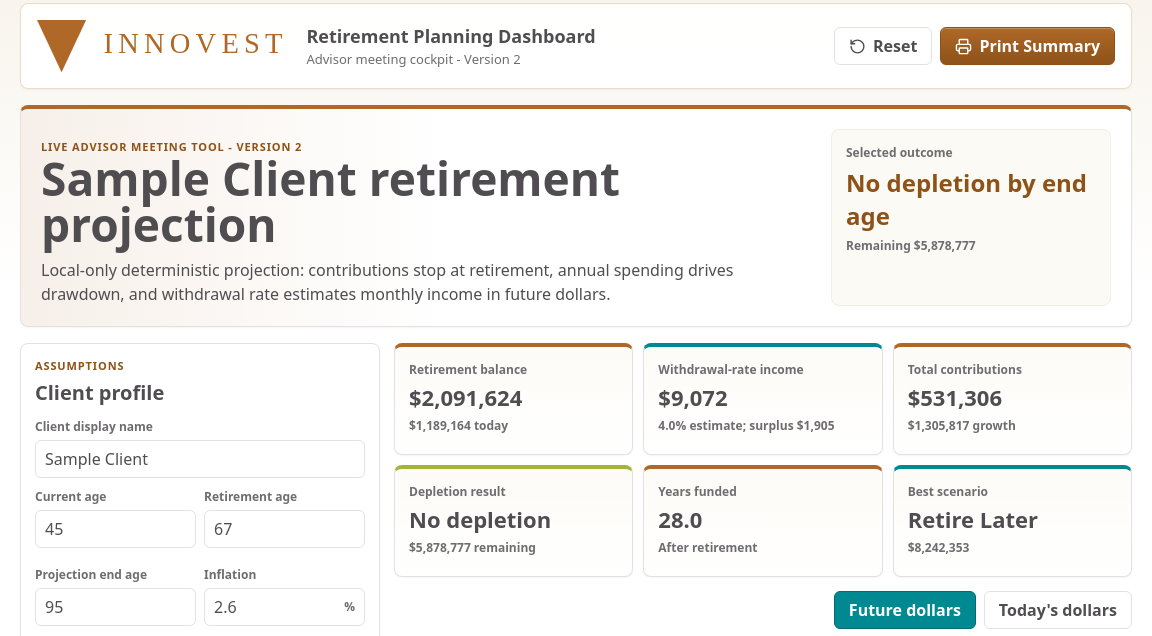
Scenario: Retirement dashboard app › shows validation feedback for invalid ages
This screenshot has width=1152, height=636.
Replace the text in the number field labelled "Current age" with "70". click: (116, 529)
box: [36, 511, 195, 547]
(page scrolled)
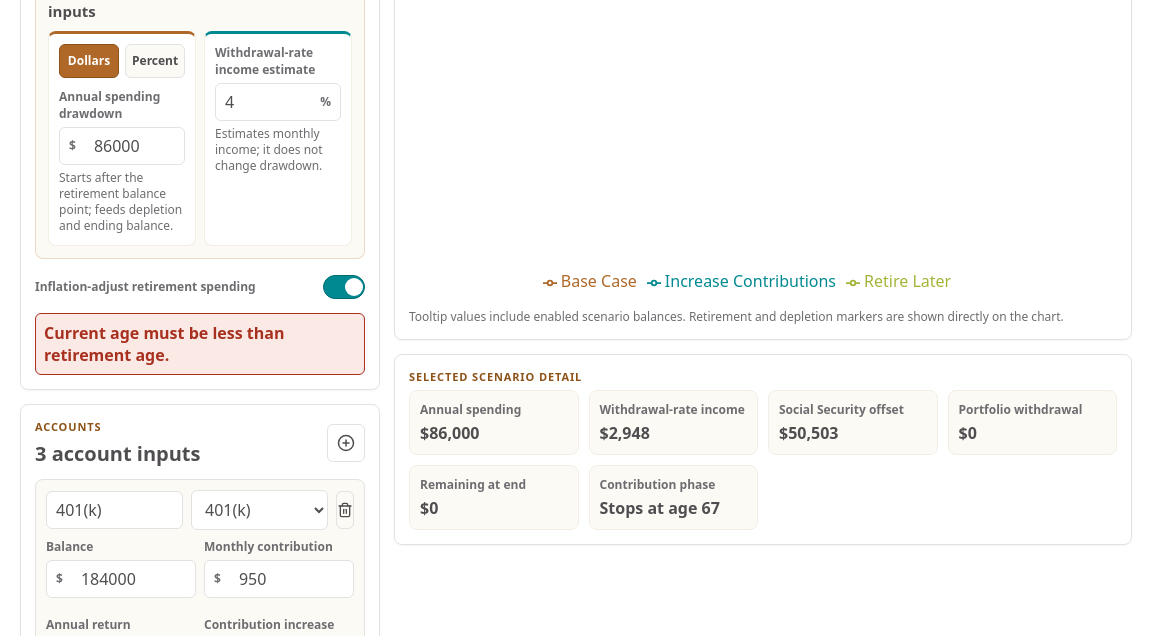
Expected: the message reads "Current age must be less than retirement age.", [44, 322, 284, 366]
